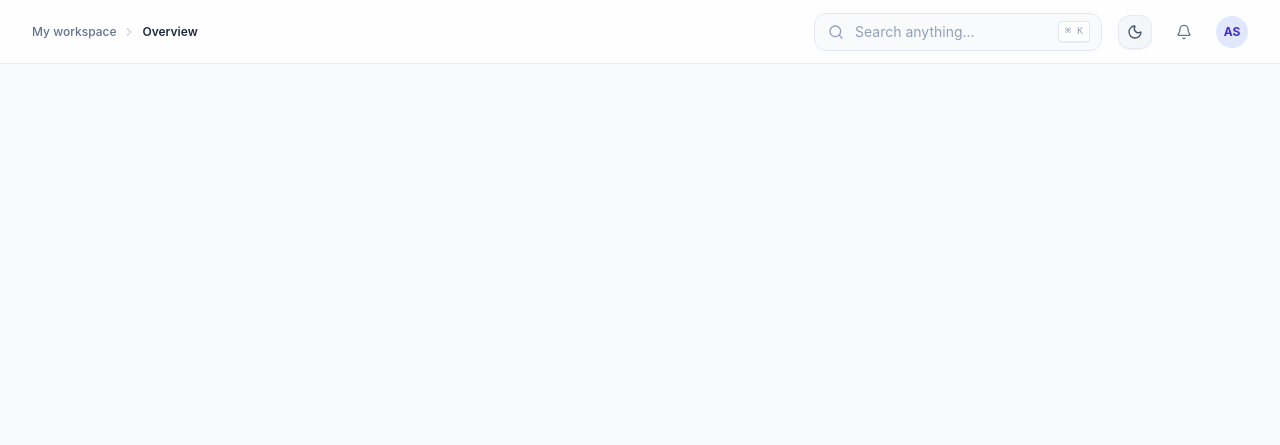
Frontend Navigation Links & Header Tests › opens notification dropdown and renders notification items on click
Note: Click bell button to toggle open dropdown
Click the button named "View notifications". click: (1184, 32)
box: [1168,16,1200,48]
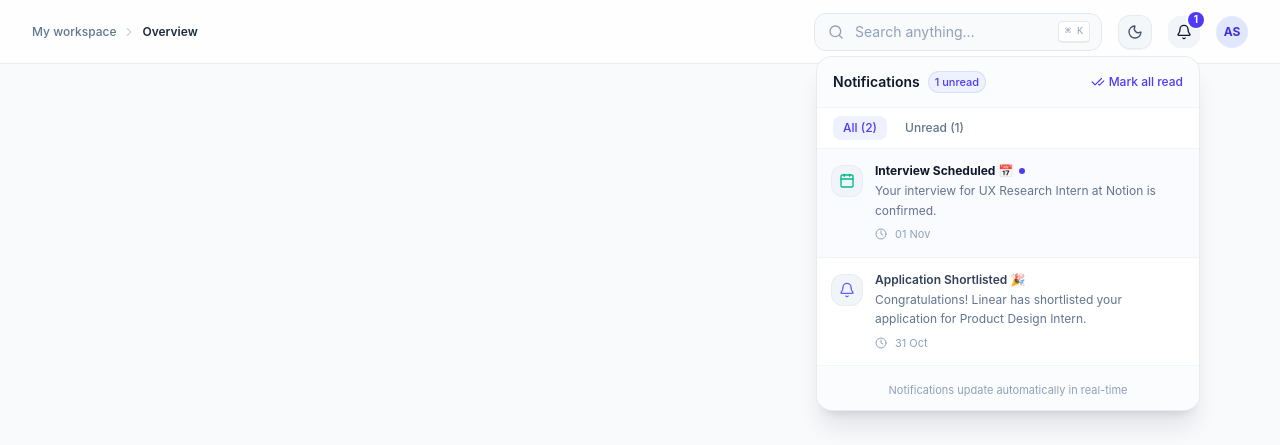
Now the text "Interview Scheduled 📅" is shown, box [875,163,1013,179]
Now the text "Your interview for UX Research Intern at Notion is confirmed" is shown, box [875,183,1156,218]
